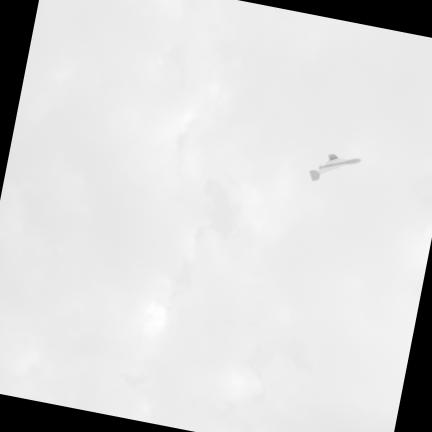Shahed: (309, 155, 360, 180)
